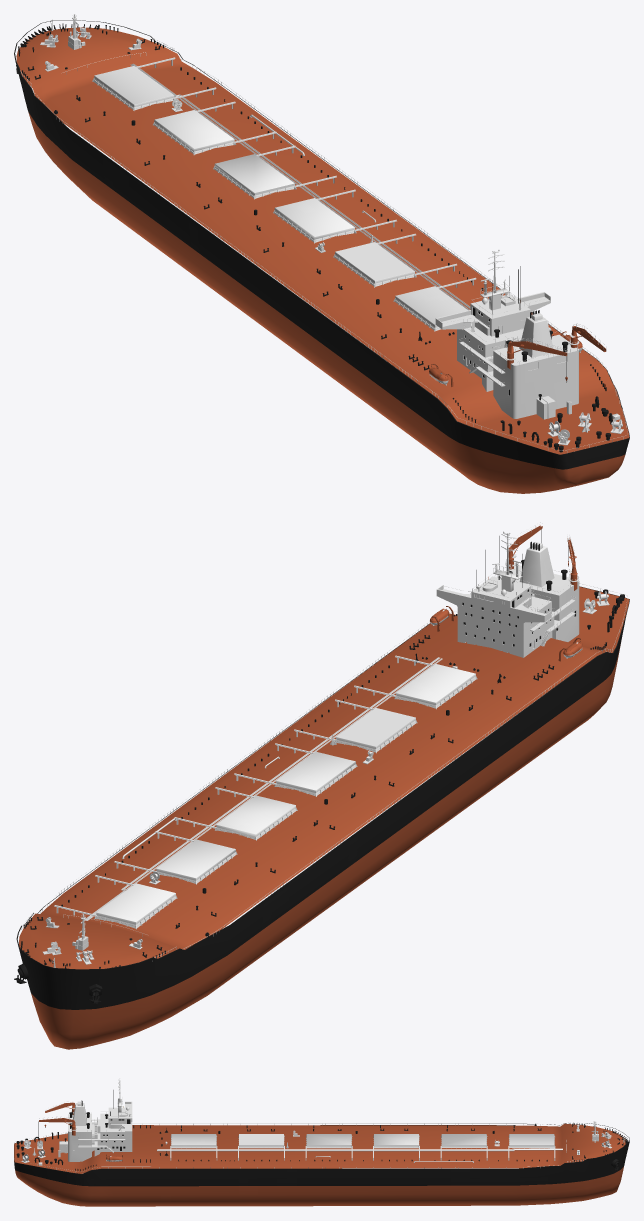
Rendered from ship06.glb.
The picture shows the model from 3 angles, top to bottom: view 1: azimuth 30°, elevation 25°; view 2: azimuth 150°, elevation 25°; view 3: azimuth 270°, elevation 25°; orthographic projection. The views are drawn at different scales.
Parts seen in each view (by area): view 1: 06; view 2: 06; view 3: 06.
Boxes of the visible parts, x1,y1,x2,y2 form: 06: (14, 14, 629, 493); 06: (14, 522, 629, 1049); 06: (14, 1078, 629, 1206).
Size of the model in its own units: 17.5 by 20.74 by 104.
4 materials, 4 textured.
